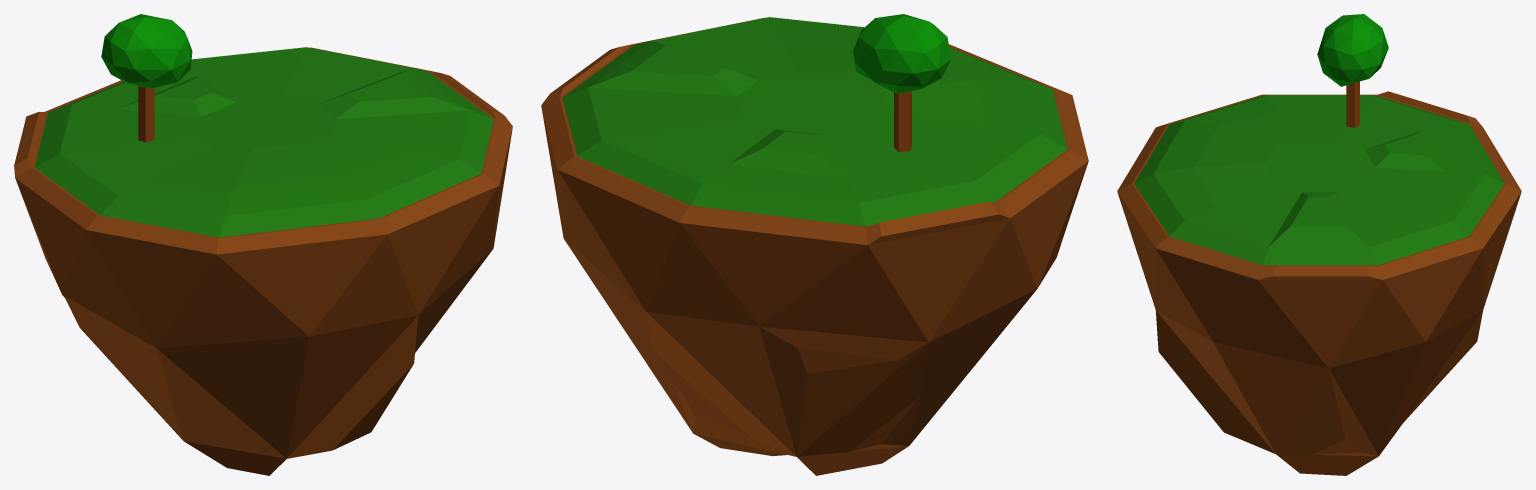
The model's file is planeta.glb.
3 renders of one model, left to right at view 1: azimuth 30°, elevation 25°; view 2: azimuth 150°, elevation 25°; view 3: azimuth 270°, elevation 25°, orthographic. The views are drawn at different scales.
Parts seen in each view (by area): view 1: planet, planet.001, Icosphere, Cylinder; view 2: planet, planet.001, Icosphere, Cylinder; view 3: planet, planet.001, Icosphere, Cylinder.
Boxes of the visible parts, bbox=[...] form: planet: bbox=[14, 47, 512, 475]; planet.001: bbox=[34, 47, 493, 237]; Icosphere: bbox=[101, 14, 192, 88]; Cylinder: bbox=[138, 86, 154, 142]; planet: bbox=[541, 17, 1088, 475]; planet.001: bbox=[562, 17, 1067, 226]; Icosphere: bbox=[853, 14, 951, 93]; Cylinder: bbox=[894, 91, 911, 151]; planet: bbox=[1117, 91, 1521, 475]; planet.001: bbox=[1134, 95, 1504, 265]; Icosphere: bbox=[1317, 14, 1388, 86]; Cylinder: bbox=[1346, 81, 1359, 127].
Size of the model in its own units: 2.8 by 2.8 by 2.62.
